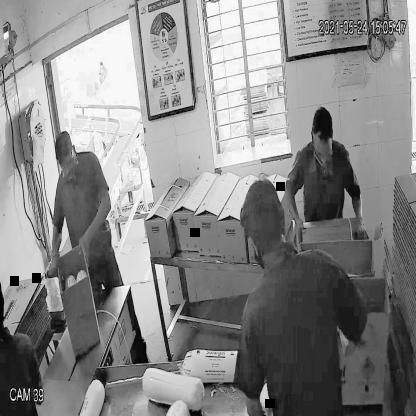goggles: (57, 150, 78, 174)
